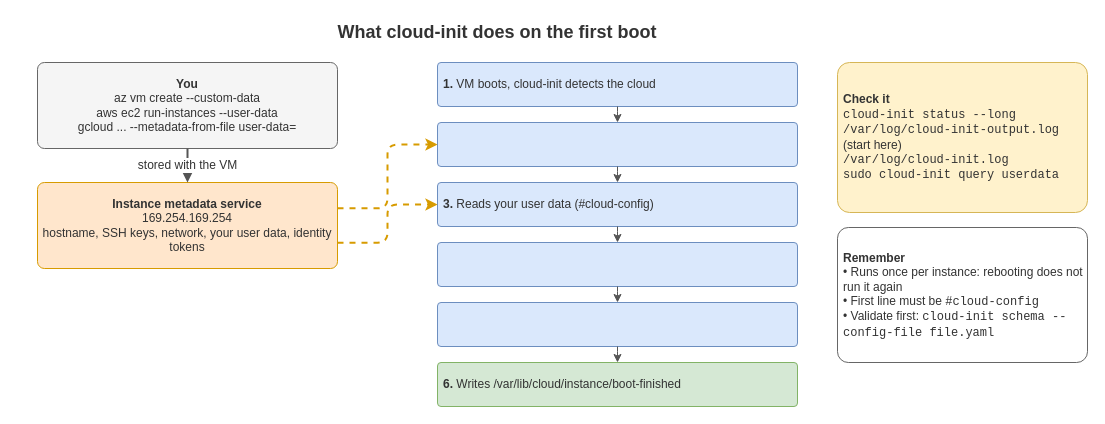
Some shapes in this 1105 by 424 pixel diagram are drawn without their labels. Here are the shapes that lost their labels. From the top down, the centre of each, then its label:
point (617, 144): 2. Reads metadata: hostname, SSH keys, network
point (617, 264): 4. Grows root disk, sets hostname, creates users, adds keys
point (617, 324): 5. packages, write_files, runcmd (as root, once)
